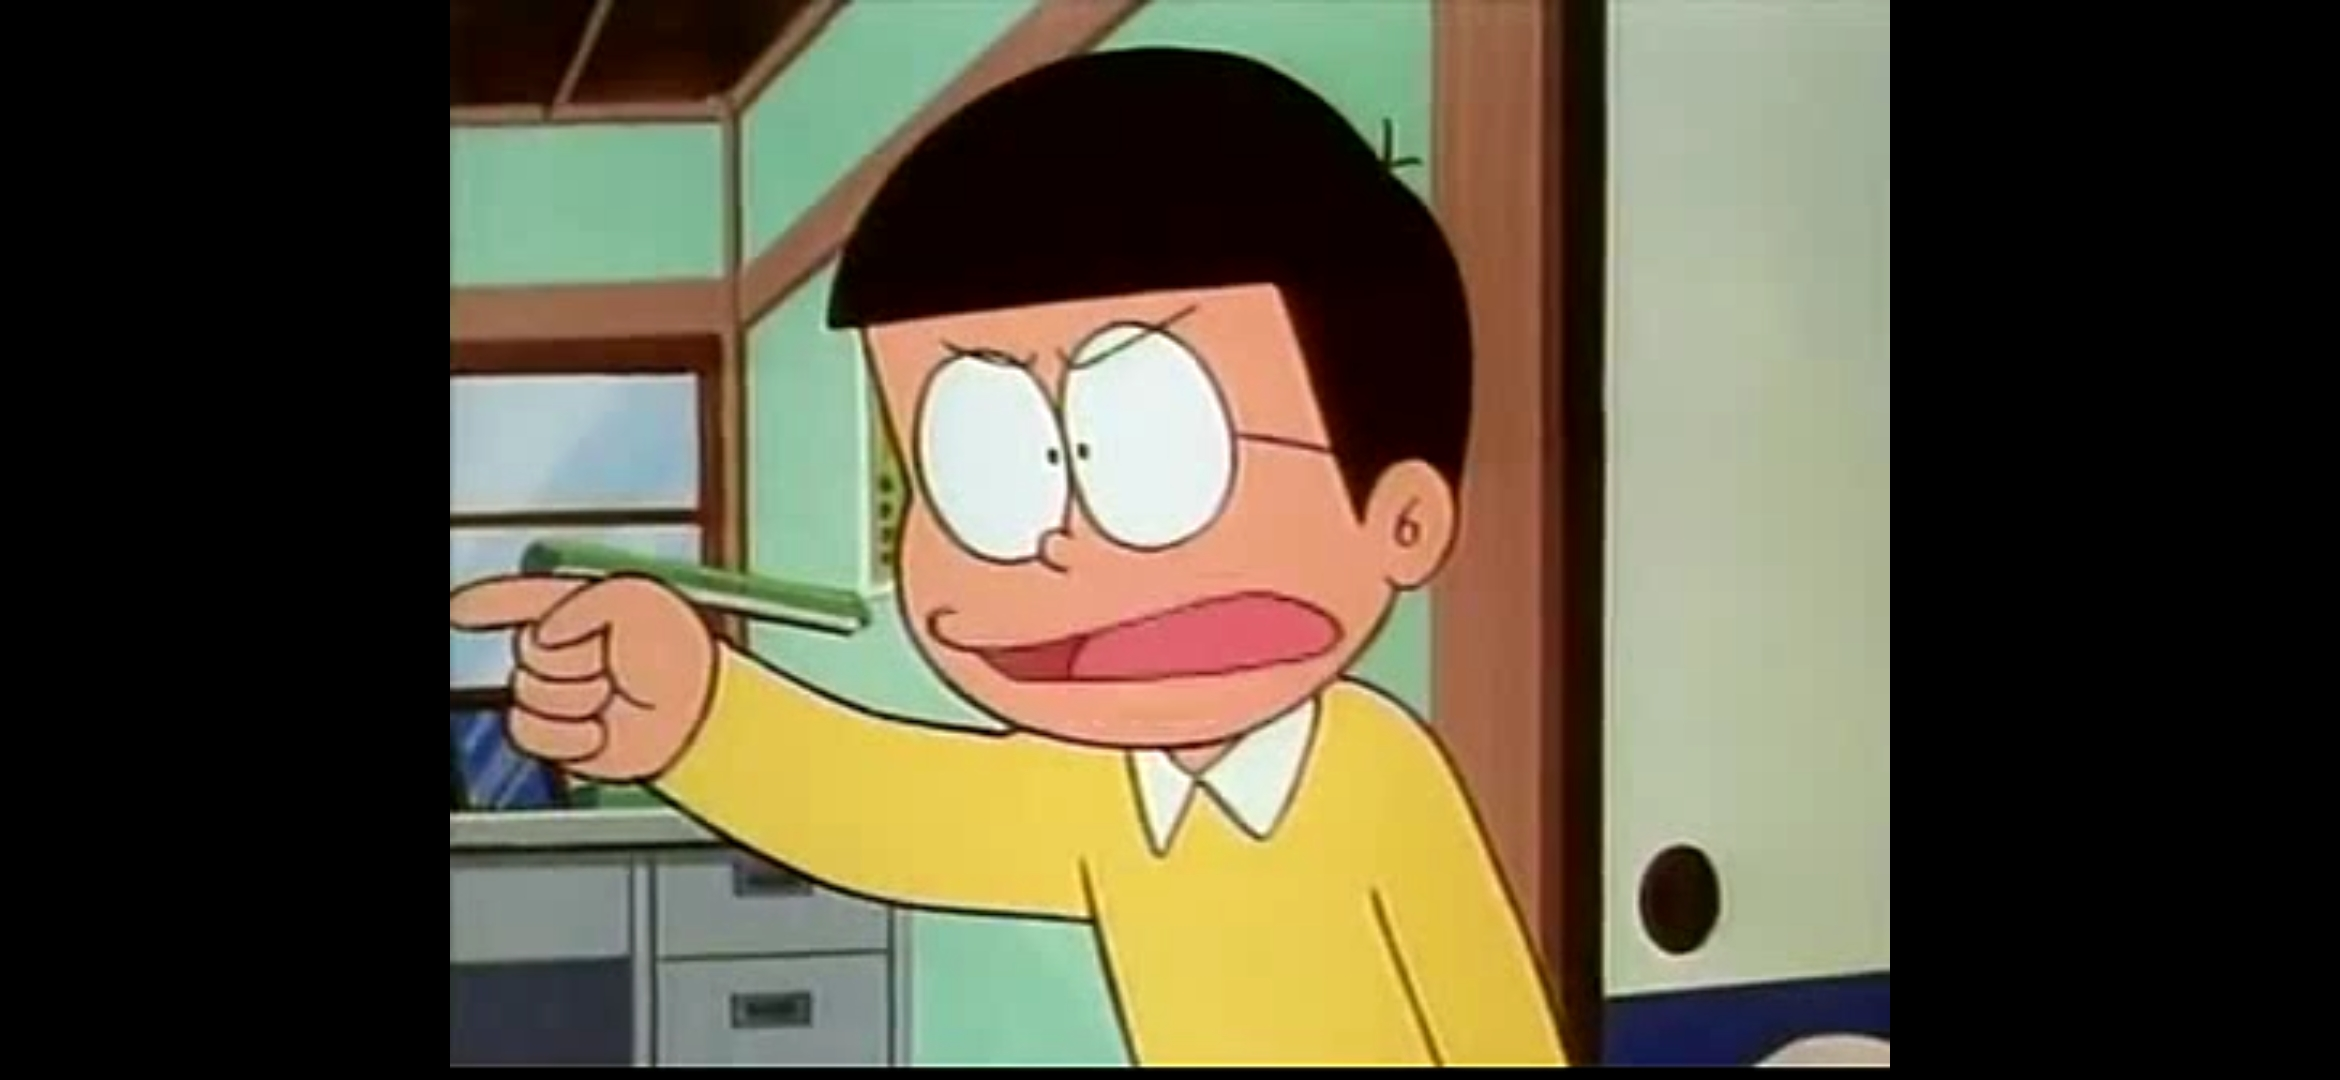Nobi: (825, 48, 1468, 746)
